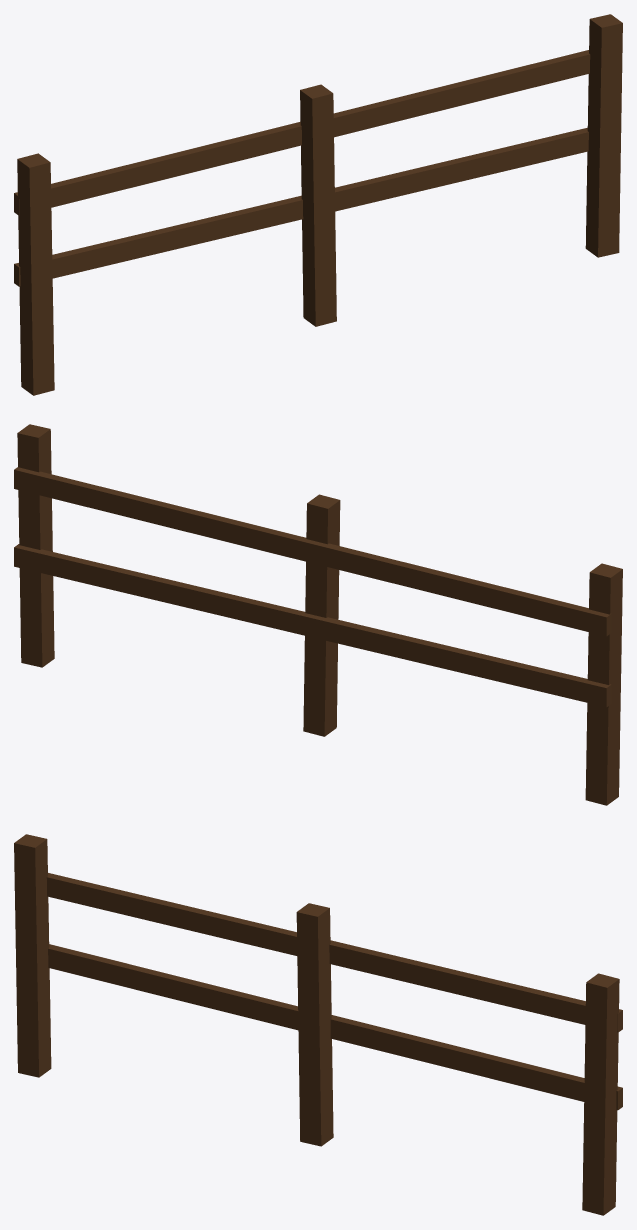
File: valla.fbx
The picture shows the model from 3 angles, top to bottom: view 1: azimuth 30°, elevation 25°; view 2: azimuth 150°, elevation 25°; view 3: azimuth 330°, elevation 25°; orthographic projection.
Parts seen in each view (by area): view 1: valla; view 2: valla; view 3: valla.
Boxes of the visible parts, box(x1,y1,x2,y2) form: valla: box(14, 14, 622, 395); valla: box(14, 424, 622, 805); valla: box(14, 834, 622, 1215).
Size of the model in its own units: 4.21 by 1.55 by 0.195.
